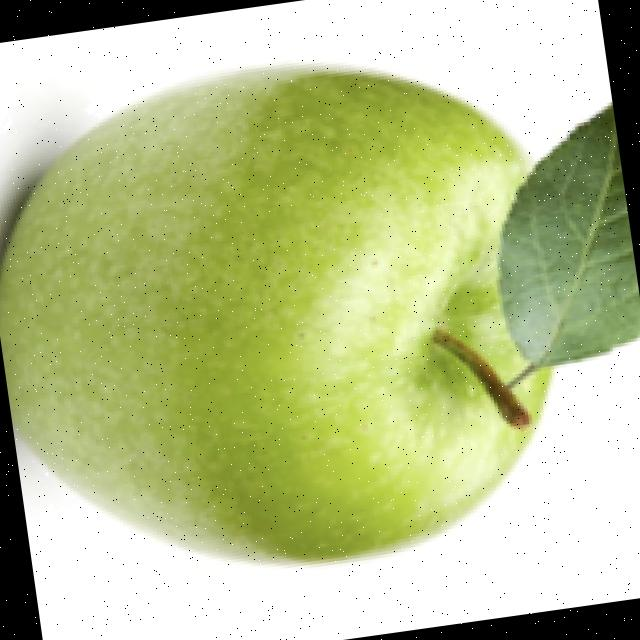apple: (0, 59, 640, 572)
